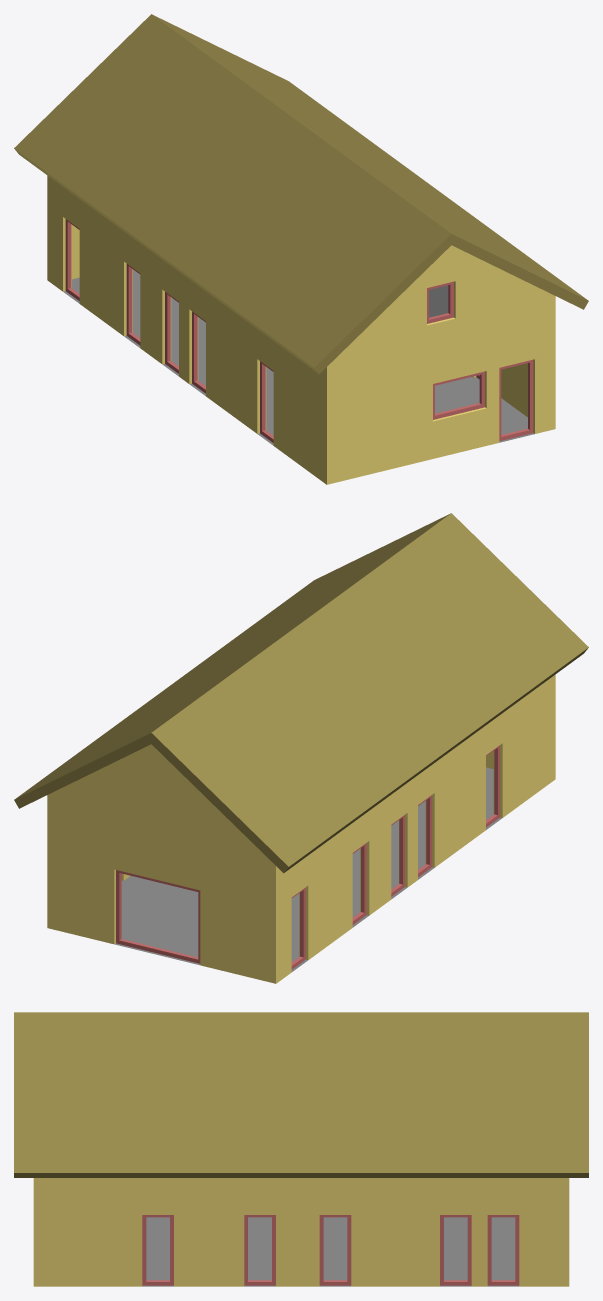
Rendered from result.glb.
3 views of the same model, one above another, from view 1: azimuth 30°, elevation 25°; view 2: azimuth 150°, elevation 25°; view 3: azimuth 270°, elevation 25° (orthographic). The views are drawn at different scales.
Parts seen in each view (by area): view 1: b51894b5-06f6-4140-9213-f6137faba60c__undefined (×2), 8f357d95-217e-460f-a47c-eb6dbae34b8a__undefined, 8cf44b16-8bcf-4b1d-b529-1dd705ad27a1__Plane_24, 48ec151b-7469-4c11-ae1c-c88da0c0ed8b__Box, 0d23a10f-ca44-4965-9f6d-c863dfcaffc6__Box_3; view 2: b51894b5-06f6-4140-9213-f6137faba60c__undefined (×2), 8f357d95-217e-460f-a47c-eb6dbae34b8a__undefined, 8cf44b16-8bcf-4b1d-b529-1dd705ad27a1__Plane_24, 3906d0dc-d453-4a20-beb7-fa8f95aa7fda__Box_9; view 3: b51894b5-06f6-4140-9213-f6137faba60c__undefined, 8f357d95-217e-460f-a47c-eb6dbae34b8a__undefined, 8cf44b16-8bcf-4b1d-b529-1dd705ad27a1__Plane_24, 43333585-b02e-42b7-9c7b-9491ddaa2926__Box_48, 1bad4a5c-ce3e-42a3-b713-55e34b85cd7e__Box_54, 54b8f477-1745-403c-870f-5796128aea53__Box_42, 1c03fd28-3ce5-4677-bbc4-88dc8555c82b__Box_51, 559062b1-5a62-4184-97ec-f85f59b57d3c__Box_45.
Boxes of the visible parts, bbox=[...] form: b51894b5-06f6-4140-9213-f6137faba60c__undefined (×2): bbox=[14, 14, 588, 374]; 8f357d95-217e-460f-a47c-eb6dbae34b8a__undefined: bbox=[47, 175, 555, 484]; 8cf44b16-8bcf-4b1d-b529-1dd705ad27a1__Plane_24: bbox=[63, 269, 534, 445]; 48ec151b-7469-4c11-ae1c-c88da0c0ed8b__Box: bbox=[499, 359, 533, 441]; 0d23a10f-ca44-4965-9f6d-c863dfcaffc6__Box_3: bbox=[433, 371, 484, 419]; b51894b5-06f6-4140-9213-f6137faba60c__undefined (×2): bbox=[14, 513, 588, 873]; 8f357d95-217e-460f-a47c-eb6dbae34b8a__undefined: bbox=[47, 674, 555, 983]; 8cf44b16-8bcf-4b1d-b529-1dd705ad27a1__Plane_24: bbox=[114, 767, 502, 971]; 3906d0dc-d453-4a20-beb7-fa8f95aa7fda__Box_9: bbox=[116, 870, 200, 963]; b51894b5-06f6-4140-9213-f6137faba60c__undefined: bbox=[14, 1012, 588, 1177]; 8f357d95-217e-460f-a47c-eb6dbae34b8a__undefined: bbox=[33, 1178, 569, 1286]; 8cf44b16-8bcf-4b1d-b529-1dd705ad27a1__Plane_24: bbox=[142, 1217, 519, 1286]; 43333585-b02e-42b7-9c7b-9491ddaa2926__Box_48: bbox=[319, 1215, 351, 1285]; 1bad4a5c-ce3e-42a3-b713-55e34b85cd7e__Box_54: bbox=[487, 1215, 519, 1285]; 54b8f477-1745-403c-870f-5796128aea53__Box_42: bbox=[142, 1215, 173, 1285]; 1c03fd28-3ce5-4677-bbc4-88dc8555c82b__Box_51: bbox=[440, 1215, 471, 1285]; 559062b1-5a62-4184-97ec-f85f59b57d3c__Box_45: bbox=[244, 1215, 275, 1285].
Size of the model in its own units: 768 by 616 by 1452.
